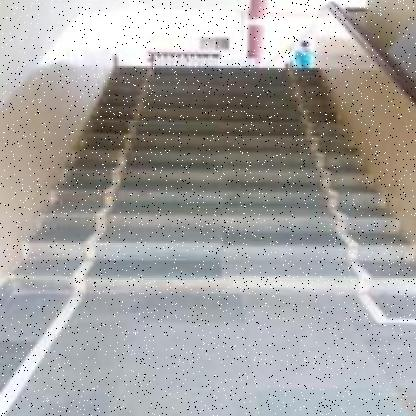stair_up: (53, 144, 375, 344)
